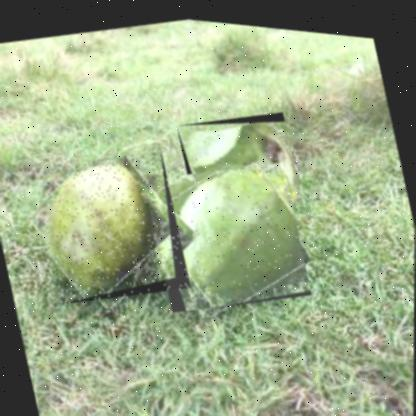guava: (142, 144, 313, 321), (28, 136, 193, 314), (175, 96, 304, 221)
